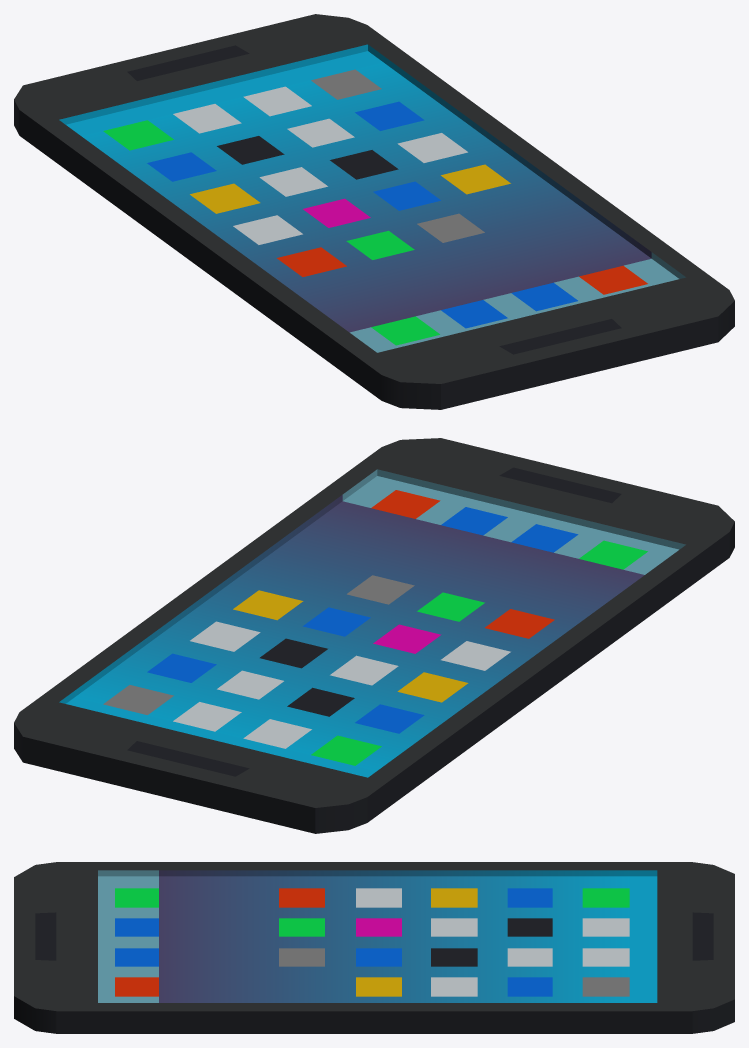
File: human-electronics-smartphone_v2.glb
3 renders of one model, top to bottom at view 1: azimuth 30°, elevation 25°; view 2: azimuth 150°, elevation 25°; view 3: azimuth 270°, elevation 25°, orthographic. The views are drawn at different scales.
Visible parts, largest first — view 1: Smartphone_v2; view 2: Smartphone_v2; view 3: Smartphone_v2.
Part boxes in pixels (x1,y1,x2,y2): Smartphone_v2: (14,14,734,409); Smartphone_v2: (14,438,734,833); Smartphone_v2: (14,862,734,1033).
Bounding box in the file's own units: 0.0734 × 0.00522 × 0.15.
